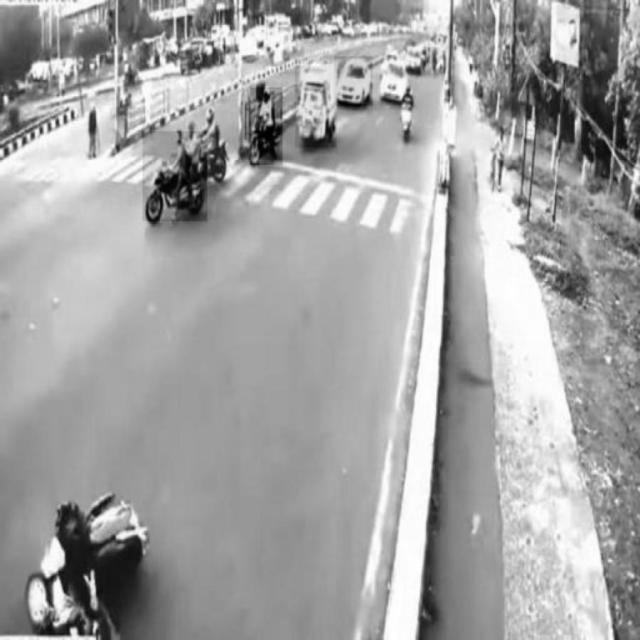vehicle: (143, 132, 207, 222), (295, 66, 336, 147), (250, 88, 282, 165), (334, 57, 372, 107)
